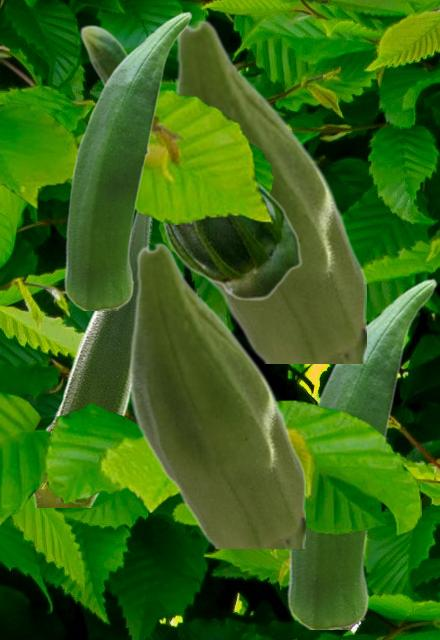okra: (174, 19, 365, 362), (79, 24, 301, 300), (128, 242, 304, 547), (286, 278, 436, 628), (63, 11, 191, 309), (32, 212, 151, 506)
